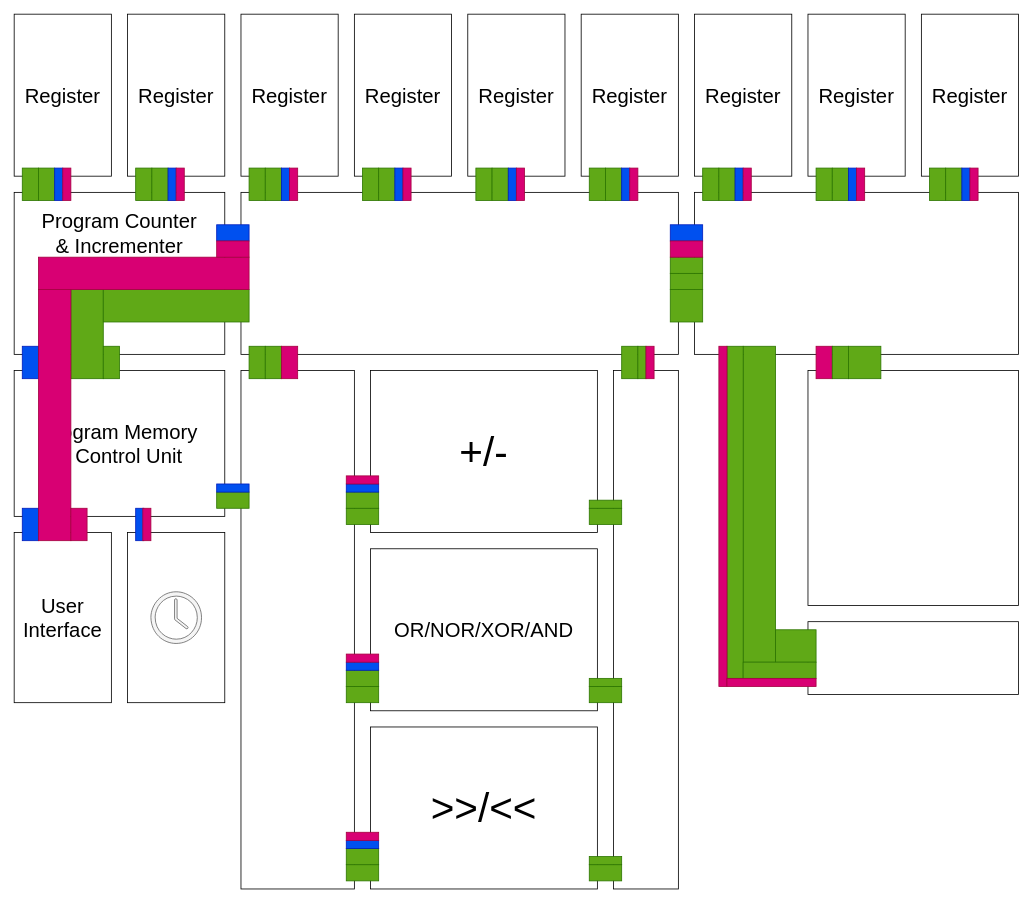
This 1033x903 diagram has some shape labels left out. Here are the shapes that lost their labels. From the top down, the centre of each, then its label:
At (459,273): "General Purpose Register Fabric & Muxes".
At (856,273): "Auxiliary Register Fabric & Muxes".
At (913,487): "Memory Address Mux".
At (297,629): "ALU Input Fabric".
At (645,629): "ALU Output Fabric".
At (913,658): "External IO Interface".
